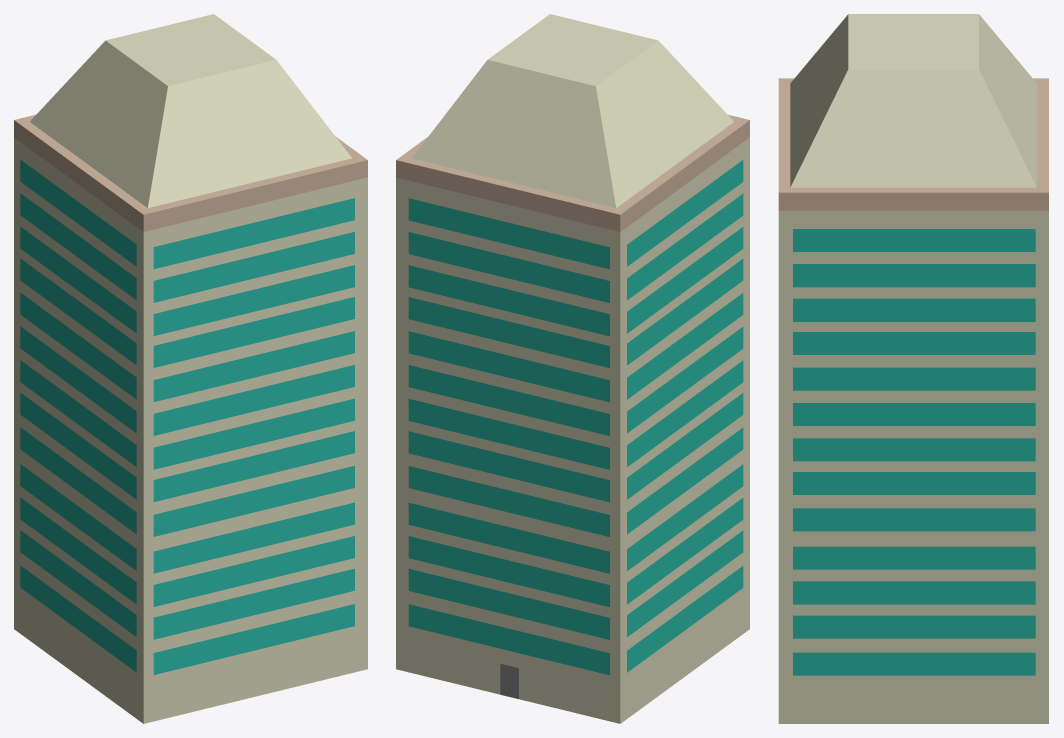
Rendered from Skyscraper5.gltf.
3 views of the same model, side by side, from view 1: azimuth 30°, elevation 25°; view 2: azimuth 150°, elevation 25°; view 3: azimuth 270°, elevation 25° (orthographic). The views are drawn at different scales.
Parts seen in each view (by area): view 1: Skyscraper5; view 2: Skyscraper5; view 3: Skyscraper5.
Boxes of the visible parts, <box> form: Skyscraper5: <box>14,14,367,723</box>; Skyscraper5: <box>396,14,749,723</box>; Skyscraper5: <box>778,14,1048,723</box>.
Size of the model in its own units: 2.5 by 6.38 by 2.51.
